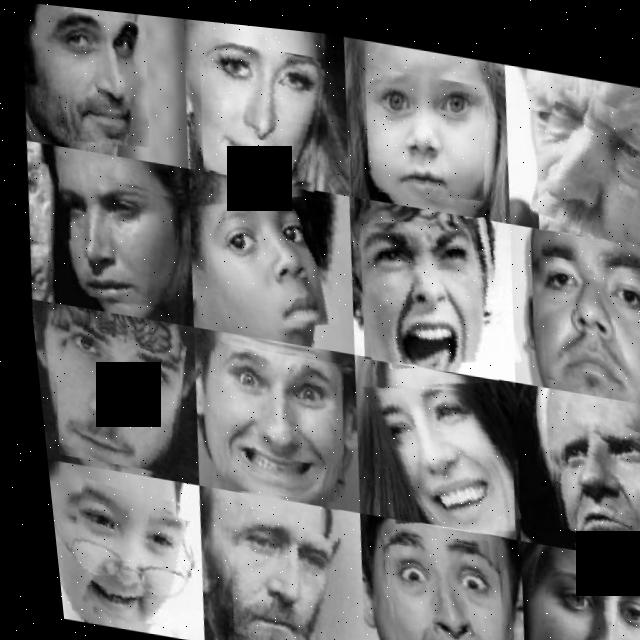anger: (344, 193, 519, 374)
fear: (355, 57, 496, 202), (363, 517, 499, 640), (523, 554, 640, 640)
happy: (351, 360, 515, 529), (195, 337, 345, 504), (189, 32, 331, 185), (47, 478, 189, 629), (50, 7, 156, 152)
neutral: (38, 308, 185, 474), (190, 180, 337, 339), (523, 74, 640, 236), (209, 502, 338, 640), (530, 392, 640, 546), (525, 243, 640, 383)
sad: (44, 167, 182, 309)
